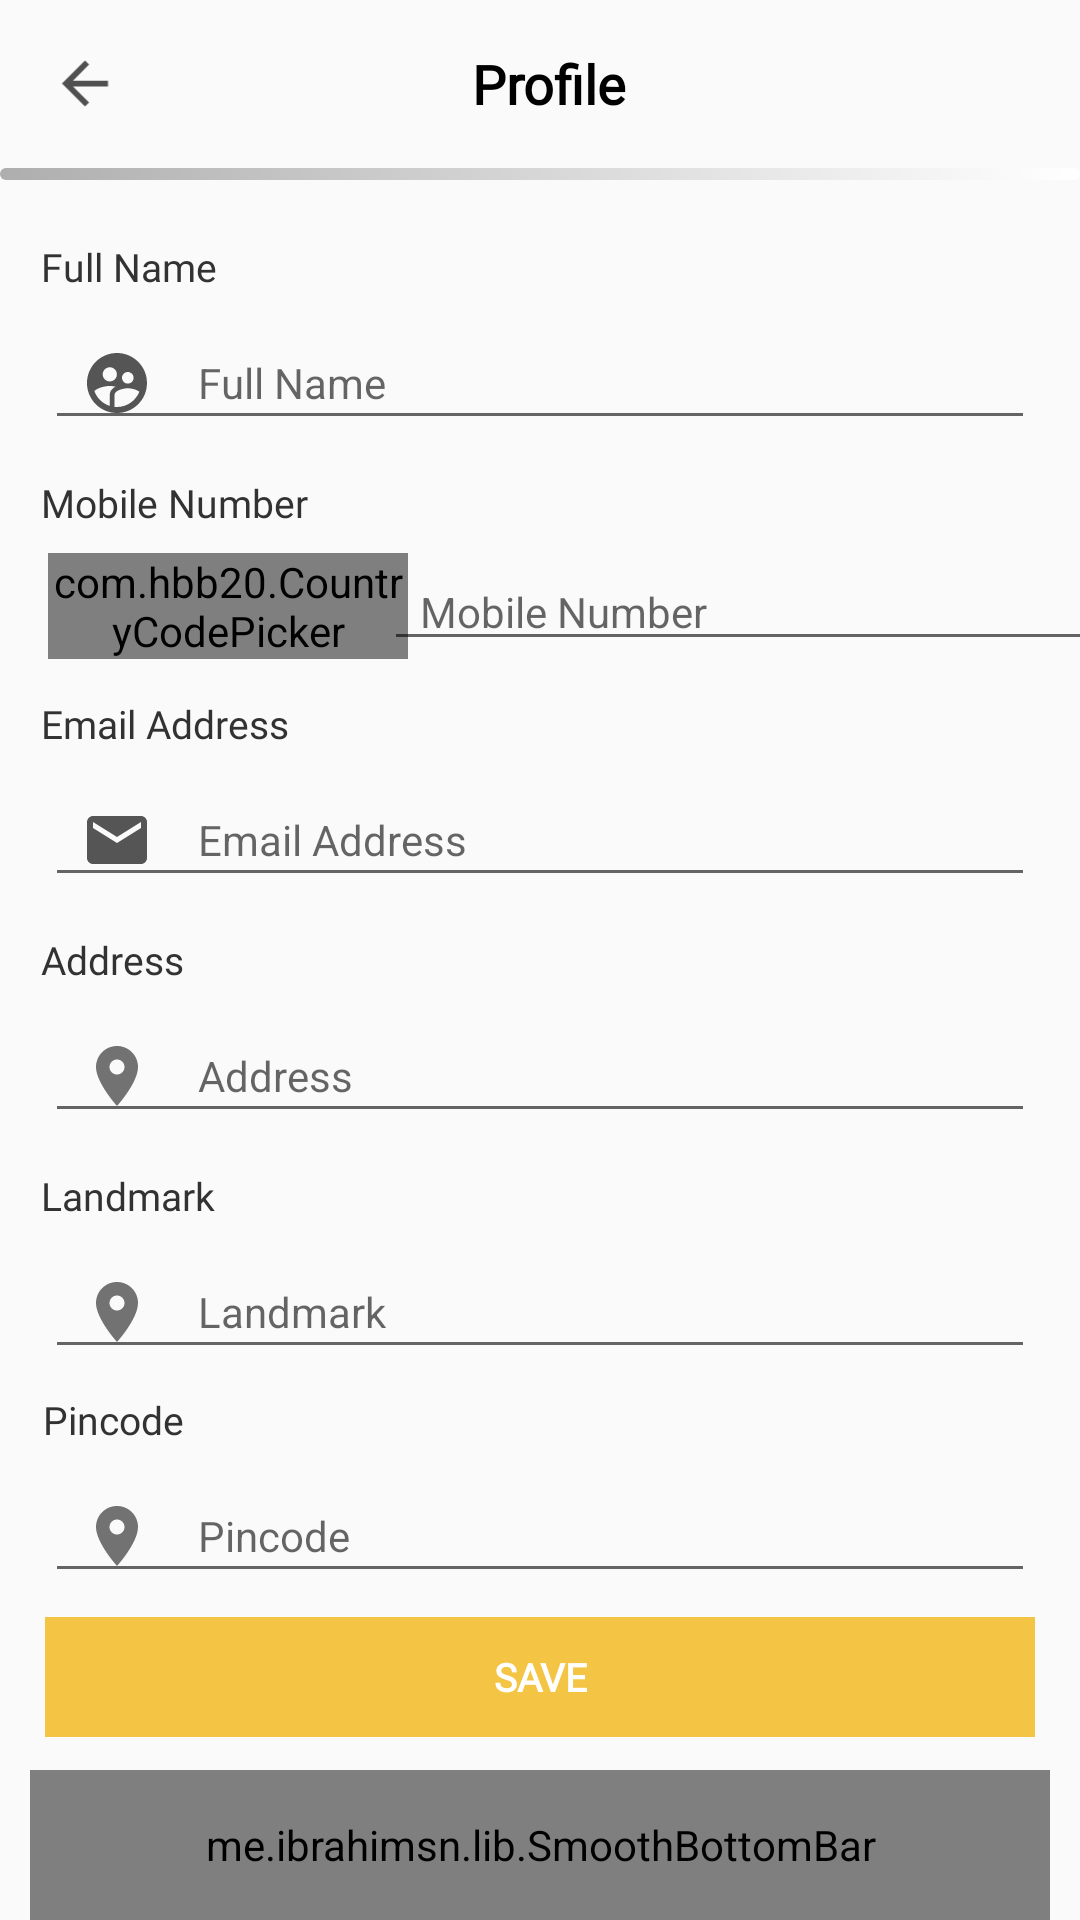

Named icons in this screenshot (1080*1920) and their bounding boxes, (x1, y1, x2, y2):
back arrow: (62, 61, 109, 106)
